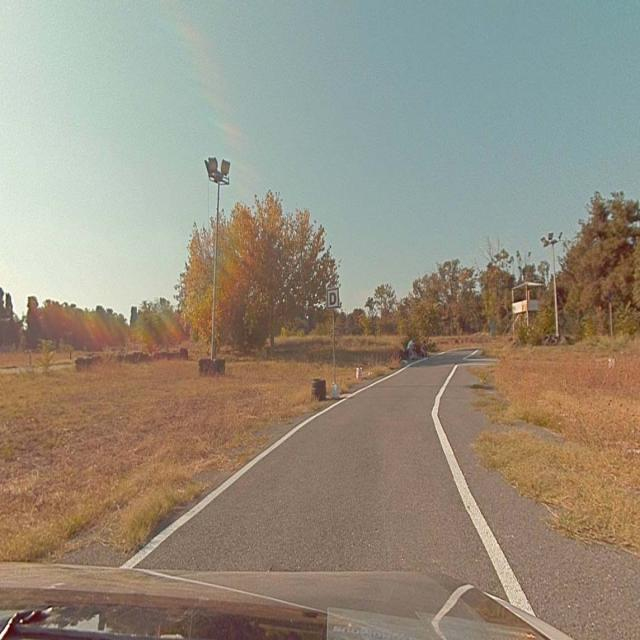durak: (327, 290, 339, 308)
